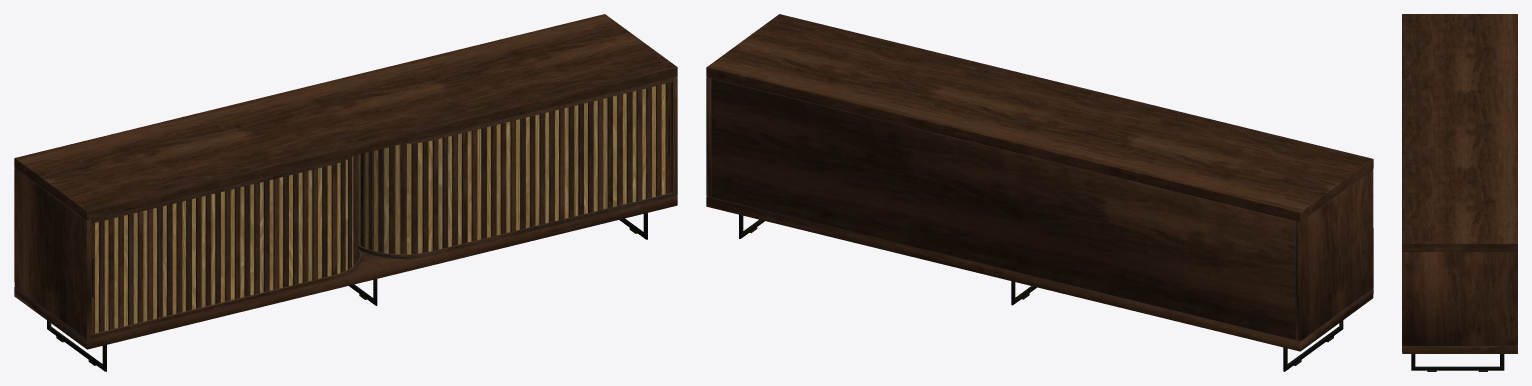
Rendered from modern_wooden_cabinet.glb.
3 renders of one model, left to right at view 1: azimuth 30°, elevation 25°; view 2: azimuth 150°, elevation 25°; view 3: azimuth 270°, elevation 25°, orthographic. The views are drawn at different scales.
Visible parts, largest first — view 1: modern_wooden_cabinet_body, modern_wooden_cabinet_door_l; view 2: modern_wooden_cabinet_body; view 3: modern_wooden_cabinet_body.
Part boxes in pixels (left/top/right/bottom): modern_wooden_cabinet_body: left=14, top=14, right=677, bottom=371; modern_wooden_cabinet_door_l: left=91, top=82, right=671, bottom=334; modern_wooden_cabinet_body: left=706, top=14, right=1373, bottom=371; modern_wooden_cabinet_body: left=1402, top=14, right=1517, bottom=371.
Bounding box in the file's own units: 2.44 × 0.6801 × 0.5201.
1 material, 1 textured.
